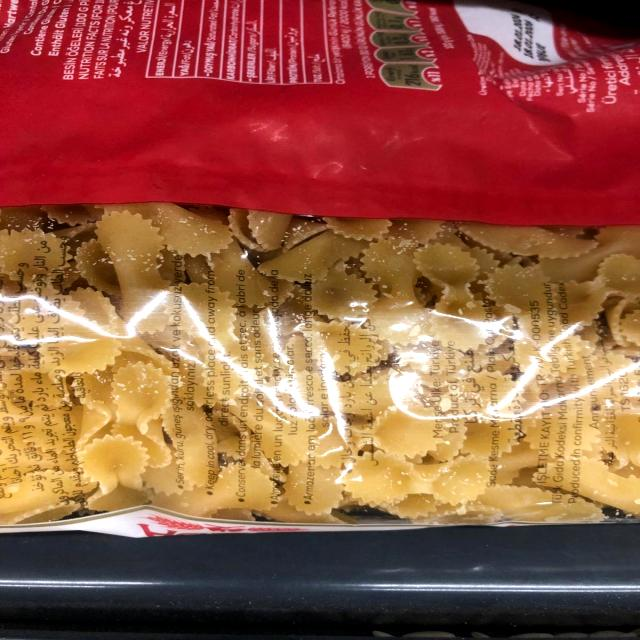farfalle pasta: (0, 0, 640, 531)
